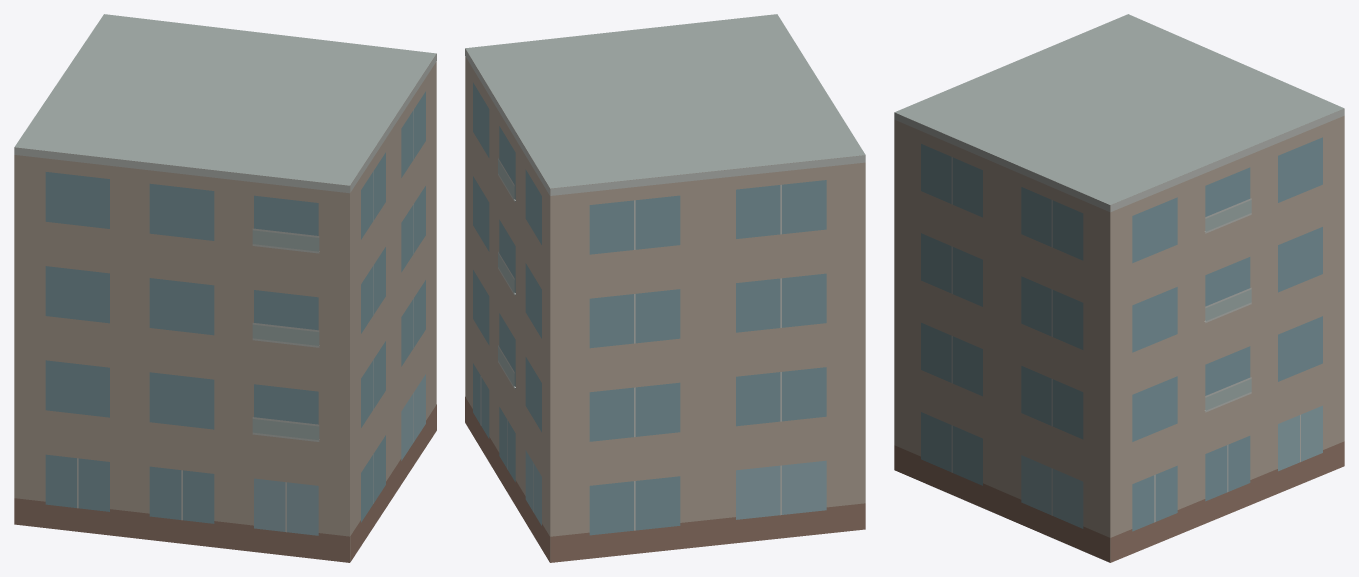
The model's file is survey-upis-32612011.glb.
3 views of the same model, side by side, from view 1: azimuth 30°, elevation 25°; view 2: azimuth 150°, elevation 25°; view 3: azimuth 270°, elevation 25° (orthographic). The views are drawn at different scales.
Parts seen in each view (by area): view 1: survey-upis-32612011.tmp; view 2: survey-upis-32612011.tmp; view 3: survey-upis-32612011.tmp.
Part boxes in pixels (x1,y1,x2,y2): survey-upis-32612011.tmp: (14,14,436,562); survey-upis-32612011.tmp: (465,14,865,562); survey-upis-32612011.tmp: (894,14,1344,562).
Size of the model in its own units: 13.99 by 12.2 by 13.93.
